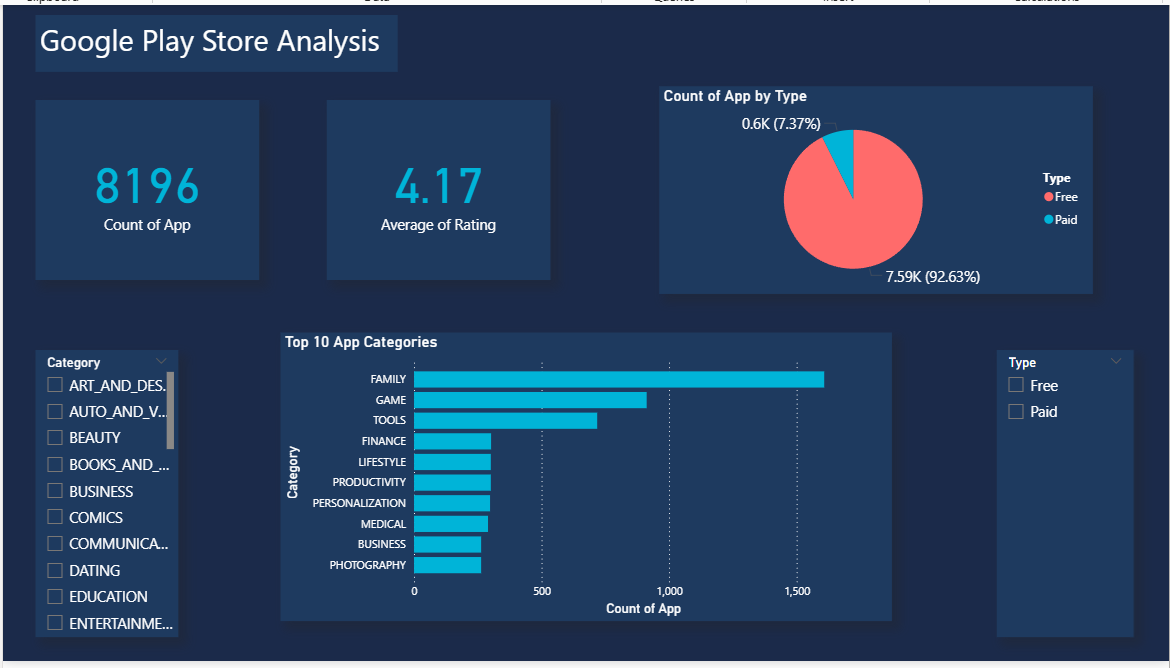

What the dashboard file says about the page in this screenshot:
{"tool":"powerbi","page":{"name":"Page 1","canvas":[1280,720],"ordinal":0},"visuals":[{"type":"card","fields":{"Values":["CountNonNull(cleaned_playstore.App)"]},"box":[36.1,104.2,245.8,197.2],"z":0},{"type":"card","fields":{"Values":["Avg(cleaned_playstore.Rating)"]},"box":[355.6,104.2,245.8,197.2],"z":1000},{"type":"pieChart","fields":{"Category":["cleaned_playstore.Type"],"Y":["CountNonNull(cleaned_playstore.App)"]},"box":[720.8,88.9,476.4,227.8],"z":2000},{"type":"barChart","title":"Top 10 App Categories","fields":{"Category":["cleaned_playstore.Category"],"Y":["CountNonNull(cleaned_playstore.App)"]},"box":[304.2,359.7,670.8,316.7],"z":3000},{"type":"slicer","fields":{"Values":["cleaned_playstore.Category"]},"box":[36.1,379.2,156.9,315.3],"z":4000},{"type":"slicer","fields":{"Values":["cleaned_playstore.Type"]},"box":[1090.3,379.2,150,315.3],"z":5000},{"type":"textbox","box":[36.1,11.1,397.2,62.5],"z":6000}]}

Visuals, with their boxes on the page's 1280x720 design canvas (x1, y1, x2, y2). These are canvas units, not pixel positions in the 1170x668 screenshot, which may show the page scaled, cropped or inside an application window:
card - CountNonNull(cleaned_playstore.App): pyautogui.locateOnScreen(36, 104, 282, 301)
card - Avg(cleaned_playstore.Rating): pyautogui.locateOnScreen(356, 104, 601, 301)
pieChart - cleaned_playstore.Type x CountNonNull(cleaned_playstore.App): pyautogui.locateOnScreen(721, 89, 1197, 317)
"Top 10 App Categories" barChart: pyautogui.locateOnScreen(304, 360, 975, 676)
slicer - cleaned_playstore.Category: pyautogui.locateOnScreen(36, 379, 193, 694)
slicer - cleaned_playstore.Type: pyautogui.locateOnScreen(1090, 379, 1240, 694)
textbox: pyautogui.locateOnScreen(36, 11, 433, 74)
